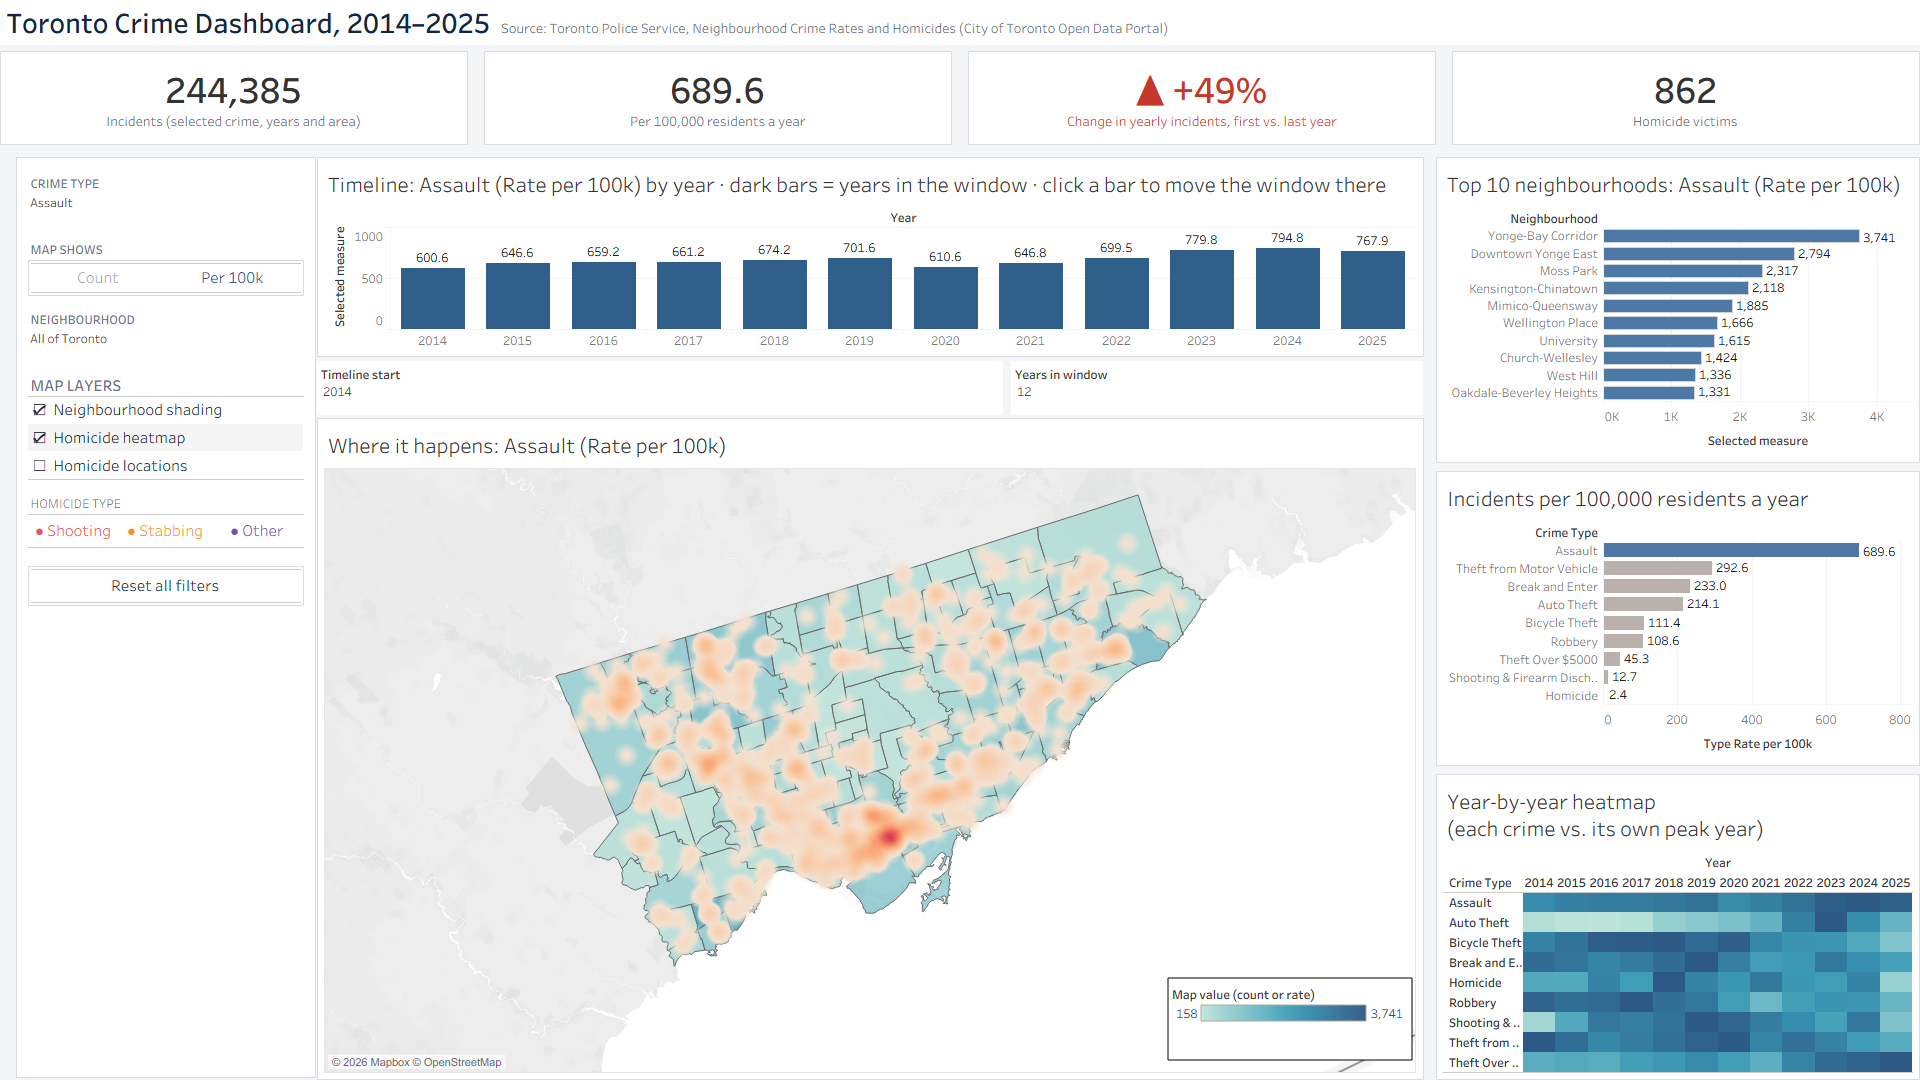

The dashboard page shown, as its layout file describes it:
{"tool":"tableau","page":{"name":"Toronto Crime Dashboard","canvas":[1920,1080],"ordinal":0},"visuals":[{"type":"text","box":[0,0,1920,44.8]},{"type":"worksheet","title":"KPI Incidents","mark":"Text","box":[0,50.9,467.8,93.7]},{"type":"worksheet","title":"KPI Rate","mark":"Text","box":[484.1,50.9,467.8,93.7]},{"type":"worksheet","title":"KPI Change","mark":"Text","box":[968.1,50.9,467.8,93.7]},{"type":"worksheet","title":"KPI Homicides","mark":"Text","box":[1452.2,50.9,467.8,93.7]},{"type":"worksheet","title":"Timeline","mark":"Bar","rows":["Calculation_1004"],"cols":["YEAR"],"box":[317.3,156.9,1106.4,199.7]},{"type":"worksheet","title":"Top 10","mark":"Bar","rows":["AREA_NAME (Neighbourhood!Crime)"],"cols":["Calculation_1004"],"box":[1435.9,156.9,484.1,305.7]},{"type":"blank","box":[16,157,300,921]},{"type":"text","box":[28,172,276,22]},{"type":"parameter","param":"[Parameters].[Parameter 1]","box":[28,194,276,32]},{"type":"text","box":[28,238,276,22]},{"type":"worksheet","title":"Ctl Measure","mark":"Text","cols":["Calculation_1040"],"box":[28,260,276,36]},{"type":"text","box":[28,308,276,22]},{"type":"parameter","param":"[Parameters].[Parameter 12]","box":[28,330,276,32]},{"type":"parameter","param":"[Parameters].[Parameter 6]","box":[317,361,686,54]},{"type":"parameter","param":"[Parameters].[Parameter 7]","box":[1011,361,412,54]},{"type":"text","box":[28,374,276,22]},{"type":"worksheet","title":"Ctl Layers","mark":"Text","rows":["Calculation_1044"],"box":[28,396,276,84]},{"type":"worksheet","title":"Map","mark":"Automatic","box":[317.3,417.7,1106.4,662.3]},{"type":"worksheet","title":"Crime Mix","mark":"Bar","rows":["CRIME_TYPE"],"cols":["Calculation_1005"],"box":[1435.9,470.7,484.1,295.5]},{"type":"text","box":[28,492,276,22]},{"type":"worksheet","title":"Ctl Homicide Types","mark":"Text","cols":["Calculation_1050"],"box":[28,514,276,34]},{"type":"worksheet","title":"Ctl Reset","mark":"Text","cols":["Calculation_1060"],"box":[28,566,276,40]},{"type":"worksheet","title":"Year Heatmap","mark":"Square","rows":["CRIME_TYPE"],"cols":["YEAR"],"box":[1435.9,774.3,484.1,305.7]},{"type":"legend","title":"Map","param":"[federated.1sqomu21w3xg7r19n78vl1p3lg3d].[usr:Calculation_1030:qk]","box":[1168,978,244,82]}]}

Visuals, with their boxes in screenshot pixels (x1, y1, x2, y2), scaled from the page's 1920x1080 canvas onto the 1920x1080 screenshot:
text: box(0, 0, 1919, 45)
"KPI Incidents" worksheet (Text marks): box(0, 51, 468, 145)
"KPI Rate" worksheet (Text marks): box(484, 51, 952, 145)
"KPI Change" worksheet (Text marks): box(968, 51, 1436, 145)
"KPI Homicides" worksheet (Text marks): box(1452, 51, 1919, 145)
"Timeline" worksheet (Bar marks): box(317, 157, 1424, 357)
"Top 10" worksheet (Bar marks): box(1436, 157, 1919, 463)
blank: box(16, 157, 316, 1078)
text: box(28, 172, 304, 194)
parameter: box(28, 194, 304, 226)
text: box(28, 238, 304, 260)
"Ctl Measure" worksheet (Text marks): box(28, 260, 304, 296)
text: box(28, 308, 304, 330)
parameter: box(28, 330, 304, 362)
parameter: box(317, 361, 1003, 415)
parameter: box(1011, 361, 1423, 415)
text: box(28, 374, 304, 396)
"Ctl Layers" worksheet (Text marks): box(28, 396, 304, 480)
"Map" worksheet: box(317, 418, 1424, 1079)
"Crime Mix" worksheet (Bar marks): box(1436, 471, 1919, 766)
text: box(28, 492, 304, 514)
"Ctl Homicide Types" worksheet (Text marks): box(28, 514, 304, 548)
"Ctl Reset" worksheet (Text marks): box(28, 566, 304, 606)
"Year Heatmap" worksheet (Square marks): box(1436, 774, 1919, 1079)
"Map" legend: box(1168, 978, 1412, 1060)
